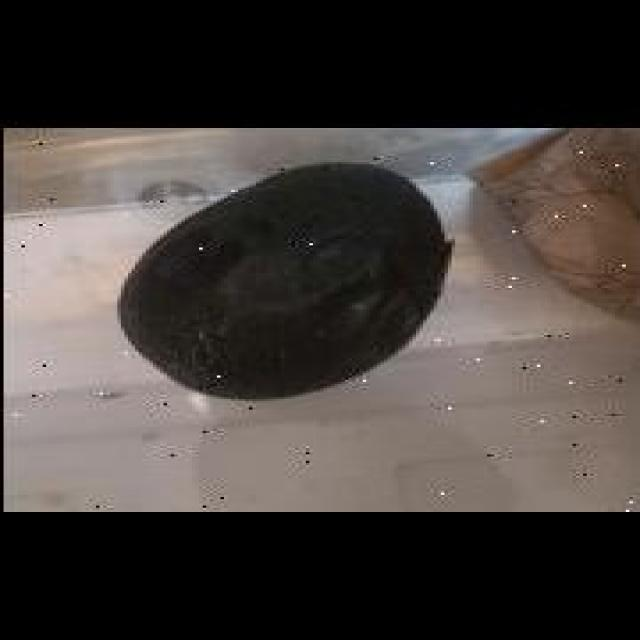avocado: (114, 162, 441, 401)
